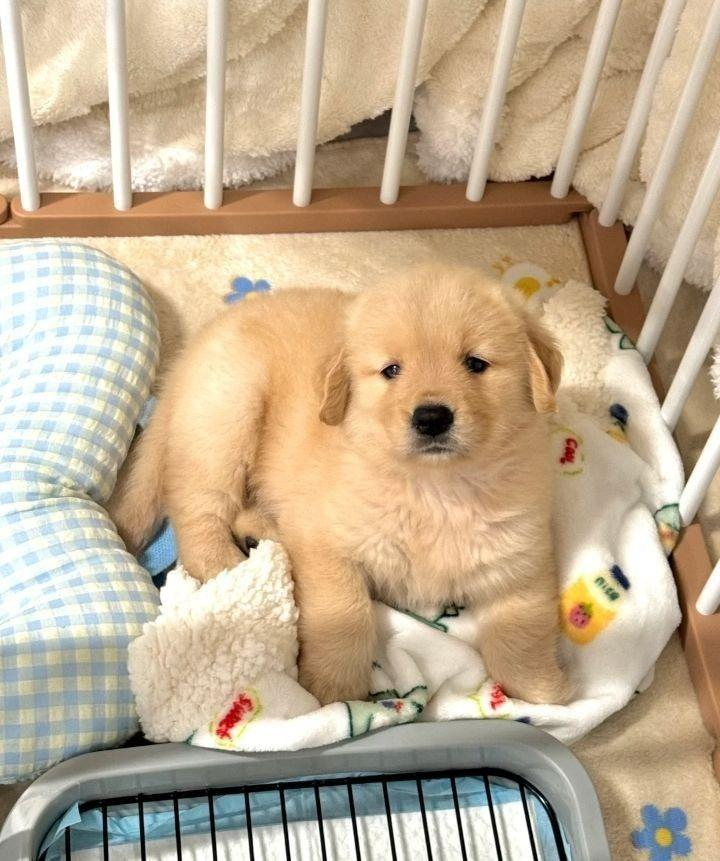puppy-dog: (103, 269, 576, 707)
